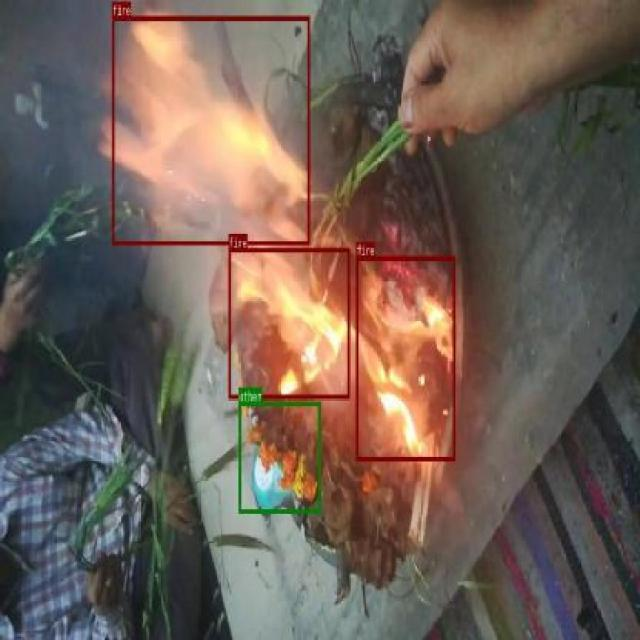Fire: (110, 16, 310, 244), (356, 255, 454, 460), (228, 247, 350, 398)
